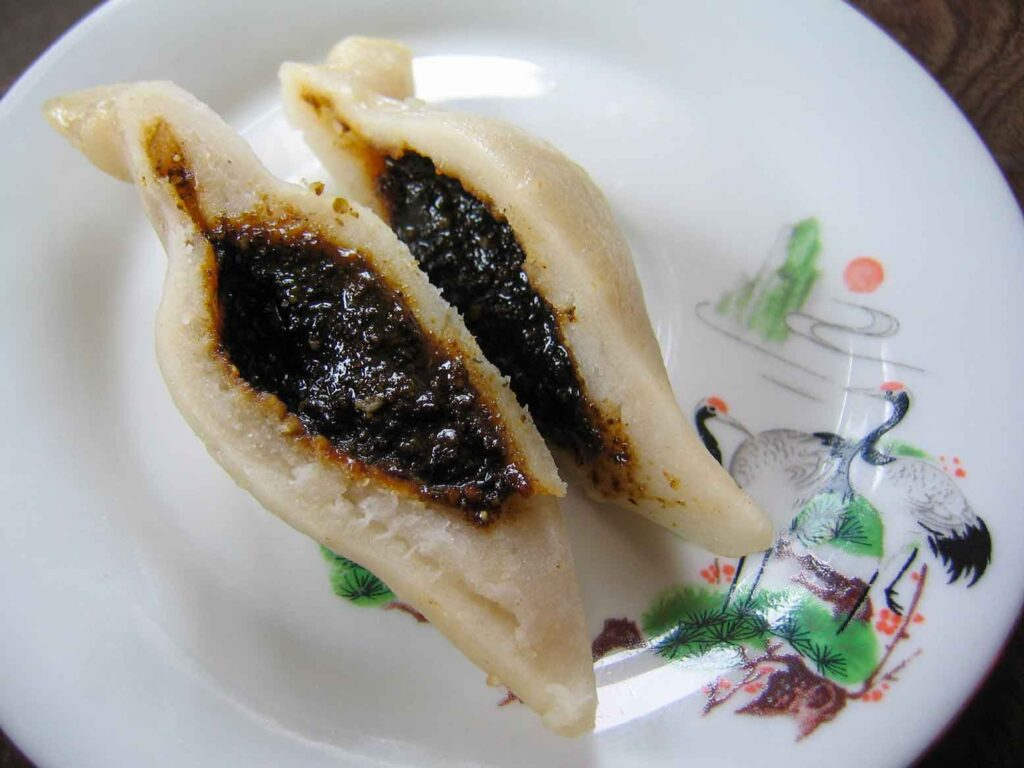yomari: (35, 67, 755, 678)
